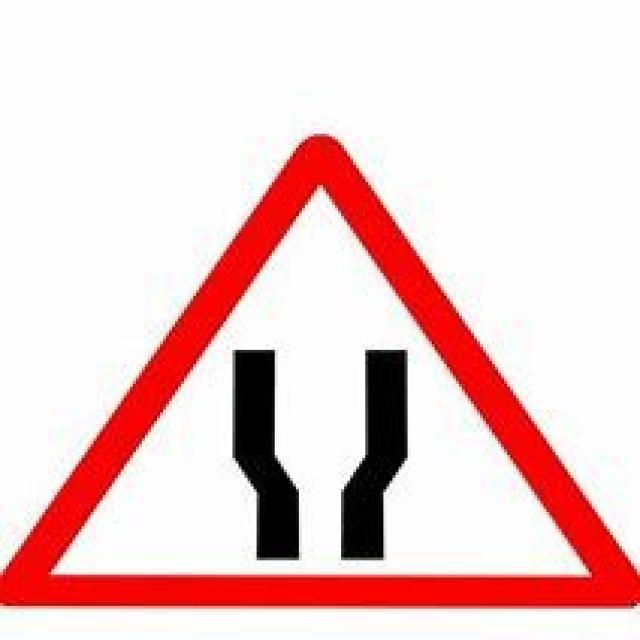road widens ahead: (23, 134, 622, 606)
